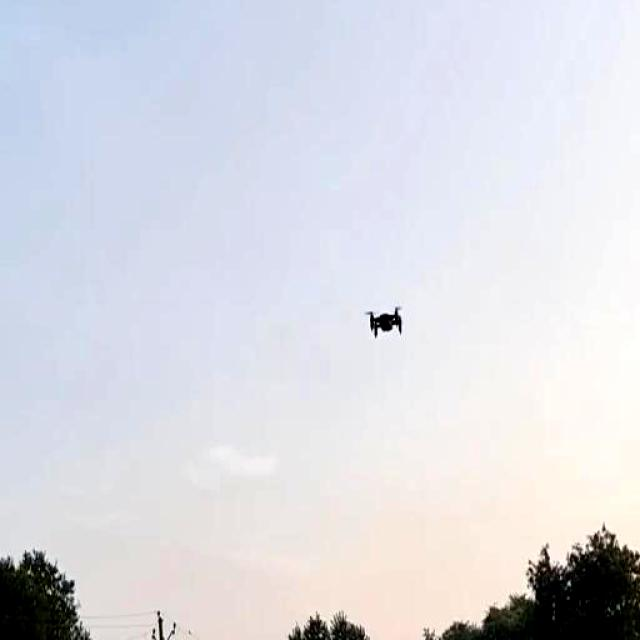bird: (365, 294, 410, 355)
